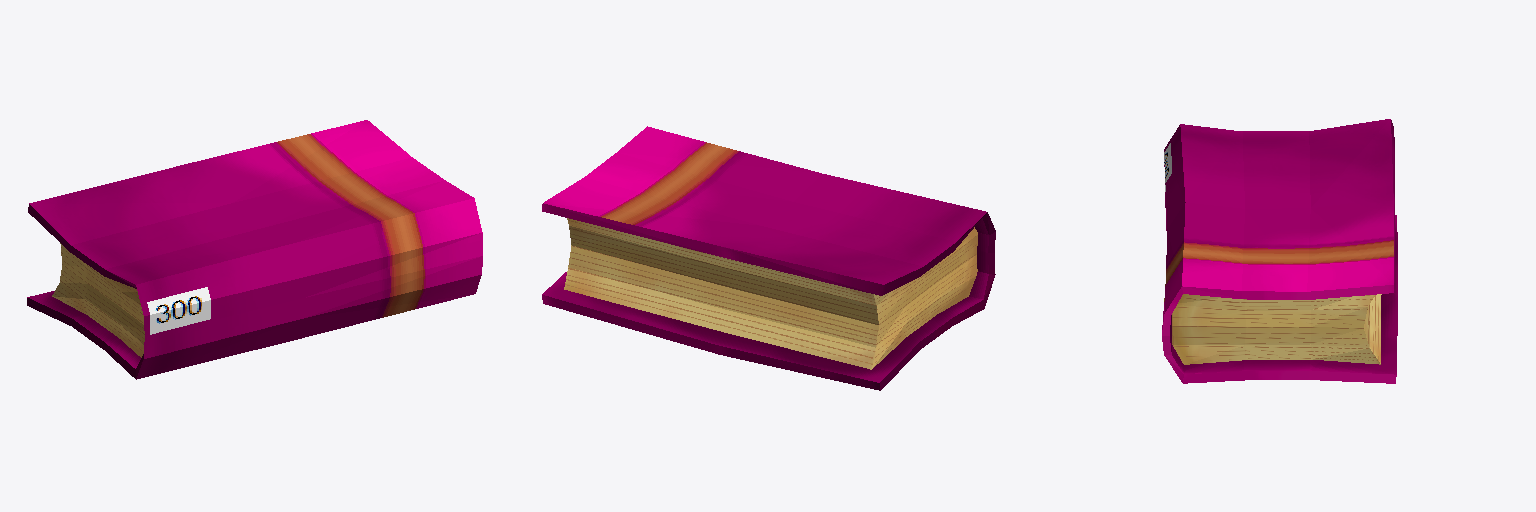
The picture shows the model from 3 angles: view 1: azimuth 30°, elevation 25°; view 2: azimuth 150°, elevation 25°; view 3: azimuth 270°, elevation 25°; orthographic projection.
Parts seen in each view (by area): view 1: Cover.040, Pages.008; view 2: Cover.040, Pages.008; view 3: Cover.040, Pages.008.
Part boxes in pixels (x1,y1,x2,y2): Cover.040: (27, 120, 482, 379); Pages.008: (52, 243, 144, 357); Cover.040: (542, 126, 995, 390); Pages.008: (564, 218, 977, 369); Cover.040: (1162, 119, 1397, 383); Pages.008: (1172, 294, 1381, 364).
Bounding box in the file's own units: 9.81 × 2.93 × 5.85.
2 materials, 2 textured.